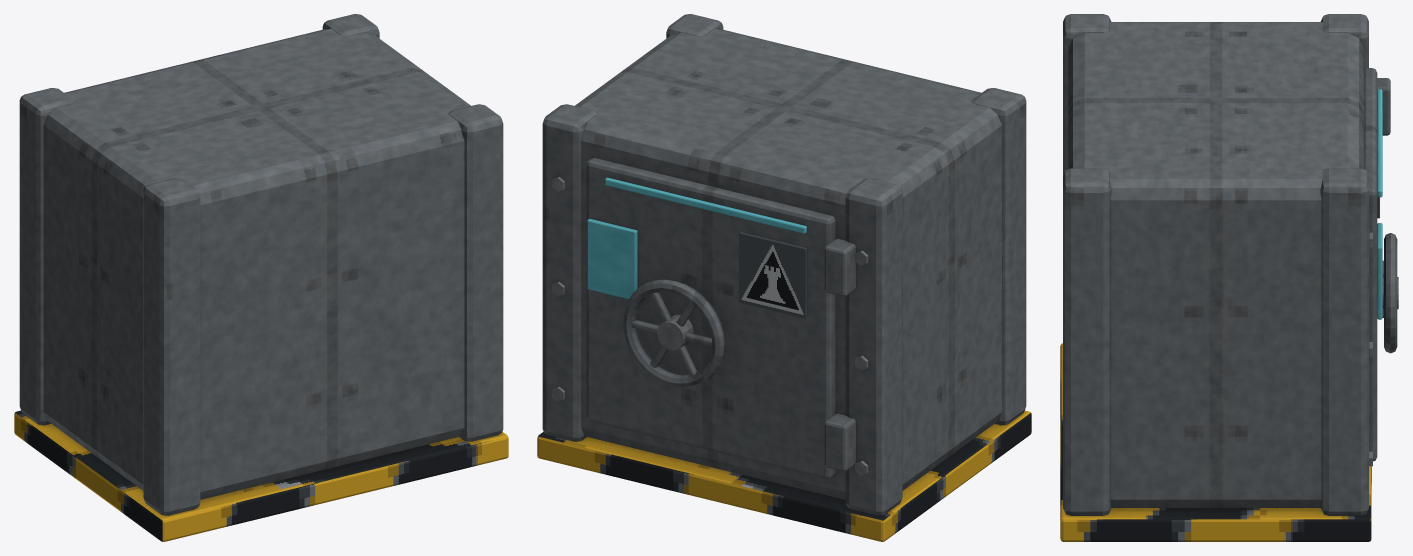
Rendered from base_secure_safe.glb.
The picture shows the model from 3 angles, left to right: view 1: azimuth 30°, elevation 25°; view 2: azimuth 150°, elevation 25°; view 3: azimuth 270°, elevation 25°; orthographic projection. The views are drawn at different scales.
Parts seen in each view (by area): view 1: base_secure_safe; view 2: base_secure_safe; view 3: base_secure_safe.
Part boxes in pixels (x1=…): base_secure_safe: x1=14, y1=14, x2=508, y2=541; base_secure_safe: x1=537, y1=14, x2=1031, y2=541; base_secure_safe: x1=1060, y1=14, x2=1398, y2=541.
Size of the model in its own units: 1.56 by 1.46 by 1.26.
4 materials, 4 textured.
